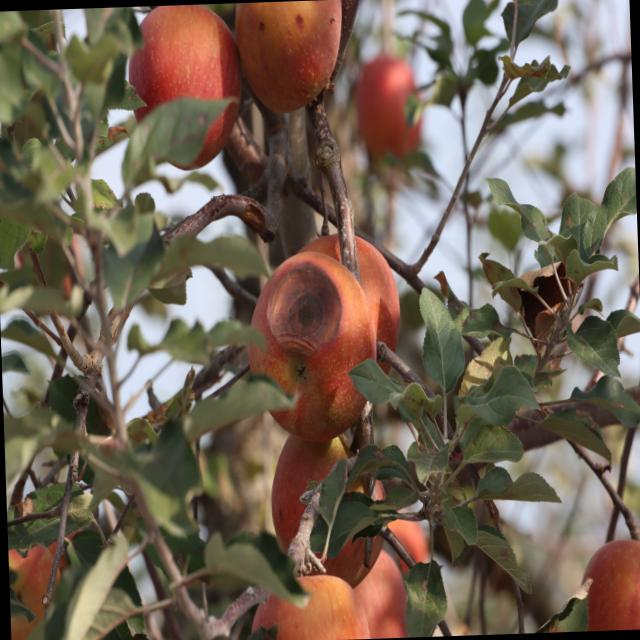rotten: (245, 243, 384, 458)
